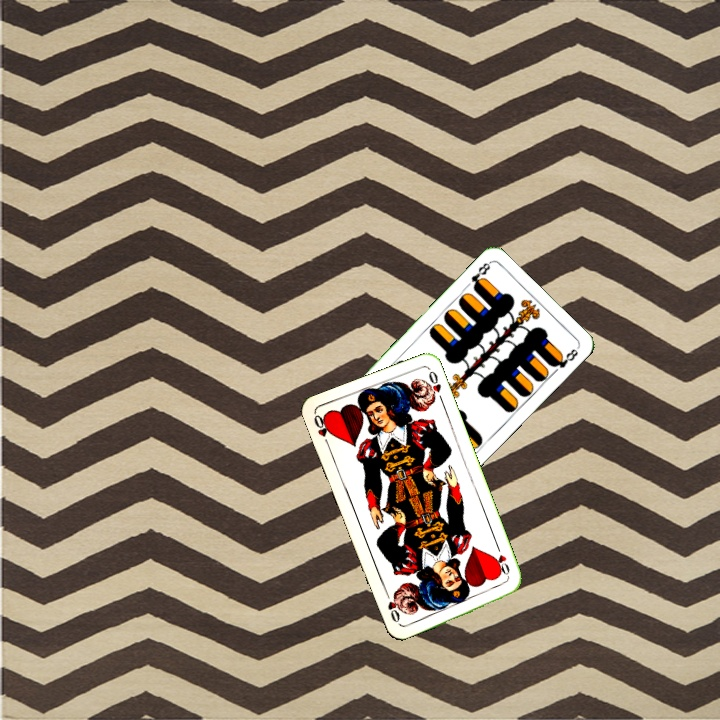E8: (467, 258, 493, 293)
HO: (489, 542, 512, 583), (310, 411, 334, 449)
